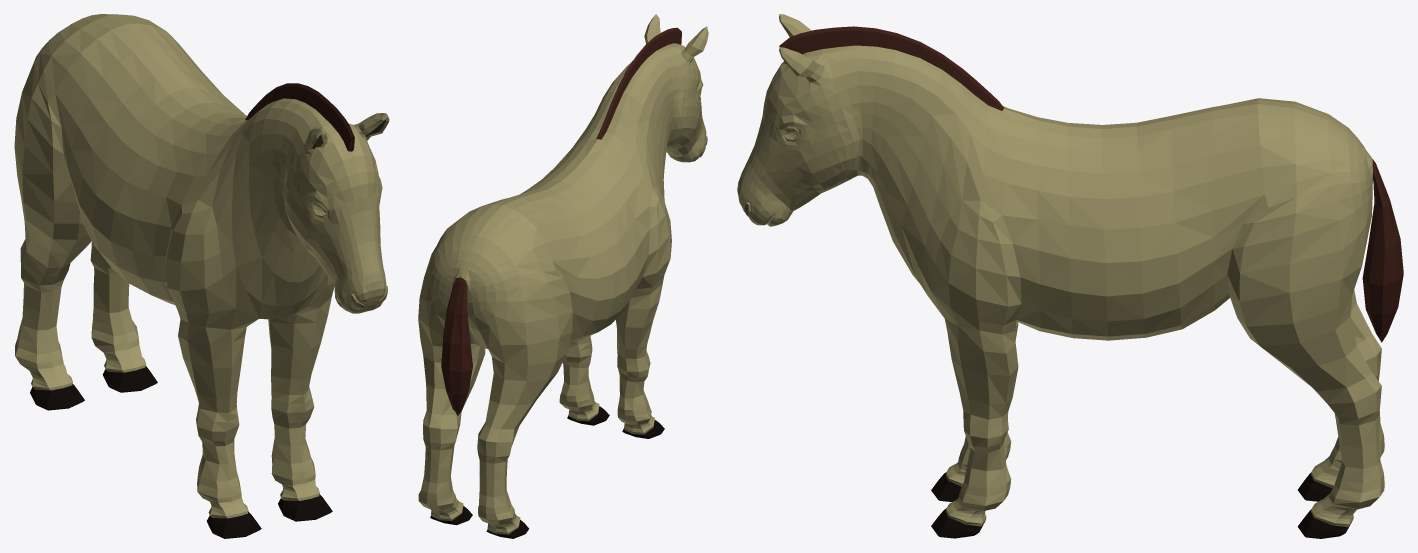
Rendered from pony_pony.obj.
3 renders of one model, left to right at view 1: azimuth 30°, elevation 25°; view 2: azimuth 150°, elevation 25°; view 3: azimuth 270°, elevation 25°, orthographic. The views are drawn at different scales.
Size of the model in its own units: 0.5083 by 1.29 by 1.61.
